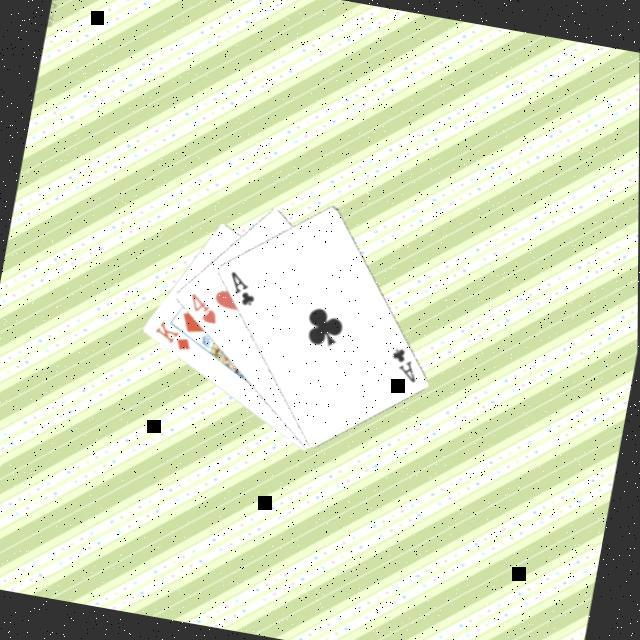4H: (181, 288, 222, 328)
AC: (221, 267, 261, 310), (383, 344, 423, 387)
KD: (147, 317, 196, 355)
